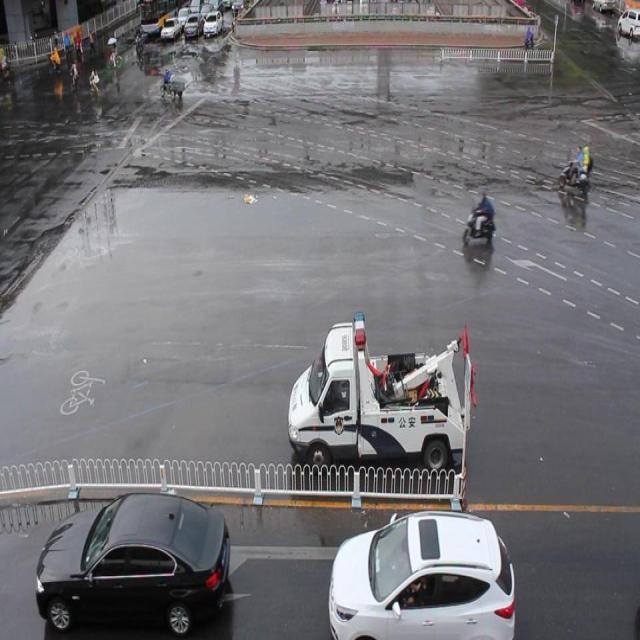bus: (288, 311, 475, 476)
car: (36, 490, 229, 640), (329, 507, 514, 640)
